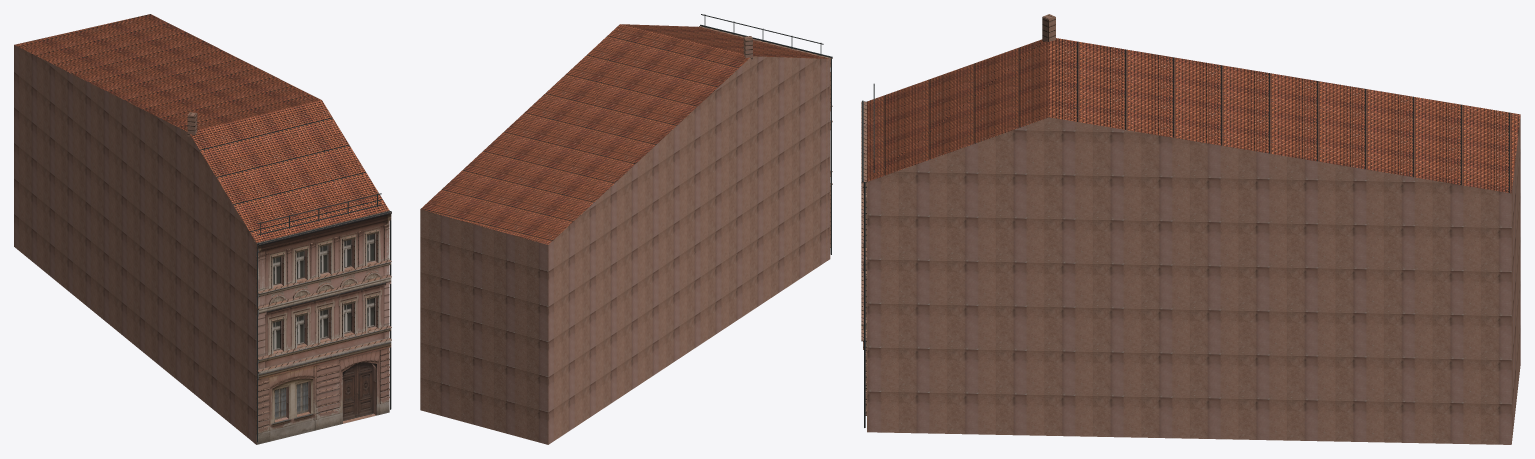
3 views of the same model, side by side, from view 1: azimuth 30°, elevation 25°; view 2: azimuth 150°, elevation 25°; view 3: azimuth 270°, elevation 25° (orthographic). The views are drawn at different scales.
Visible parts, largest first — view 1: CP60_GIS_envelope, CP60_roof, CP60_photo_registered_masonry, CP60_gutters_and_railing; view 2: CP60_GIS_envelope, CP60_roof, CP60_photo_registered_masonry, CP60_gutters_and_railing; view 3: CP60_GIS_envelope, CP60_roof, CP60_photo_registered_masonry, CP60_gutters_and_railing.
Boxes of the visible parts, x1,y1,x2,y2 form: CP60_GIS_envelope: (14,45,253,442); CP60_roof: (14,14,389,242); CP60_photo_registered_masonry: (253,210,391,444); CP60_gutters_and_railing: (257,193,391,442); CP60_GIS_envelope: (420,61,827,444); CP60_roof: (420,24,829,244); CP60_photo_registered_masonry: (699,26,832,260); CP60_gutters_and_railing: (699,14,832,254); CP60_GIS_envelope: (867,116,1520,444); CP60_roof: (867,38,1520,194); CP60_photo_registered_masonry: (861,101,866,415); CP60_gutters_and_railing: (862,83,874,427).
Bounding box in the file's own units: 9.11 × 15.47 × 27.14.
6 materials, 5 textured.
